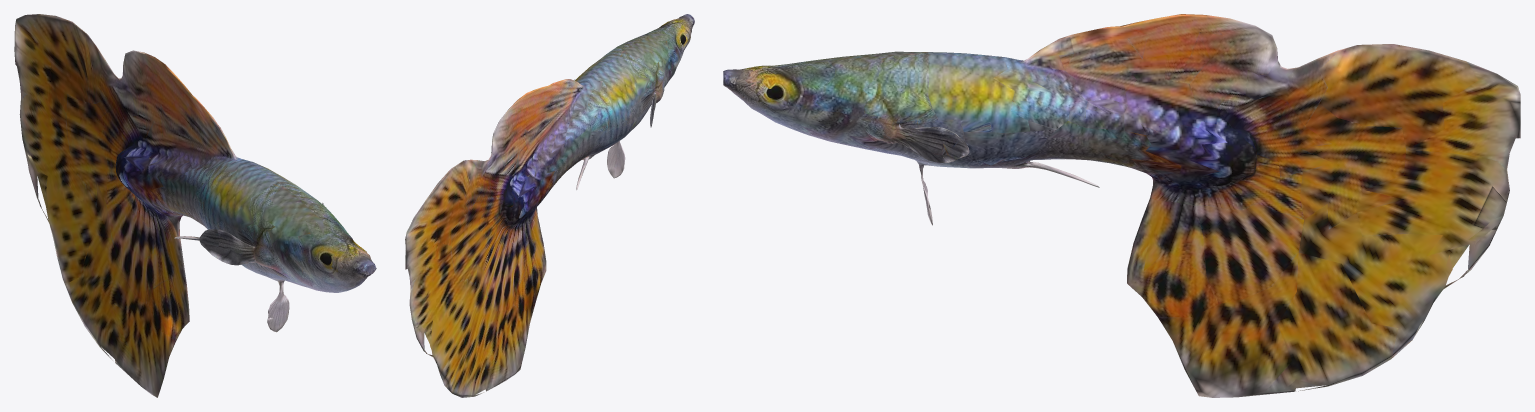
Rendered from strain-yellow_leopard.lo.glb.
3 views of the same model, side by side, from view 1: azimuth 30°, elevation 25°; view 2: azimuth 150°, elevation 25°; view 3: azimuth 270°, elevation 25° (orthographic). The views are drawn at different scales.
Parts seen in each view (by area): view 1: Mesh_0.001; view 2: Mesh_0.001; view 3: Mesh_0.001.
Boxes of the visible parts, x1,y1,x2,y2 form: Mesh_0.001: (14, 14, 376, 397); Mesh_0.001: (405, 14, 694, 397); Mesh_0.001: (723, 14, 1520, 397).
Size of the model in its own units: 0.0065 by 0.0173 by 0.0326.
Materials: 2 (2 with a texture image).
